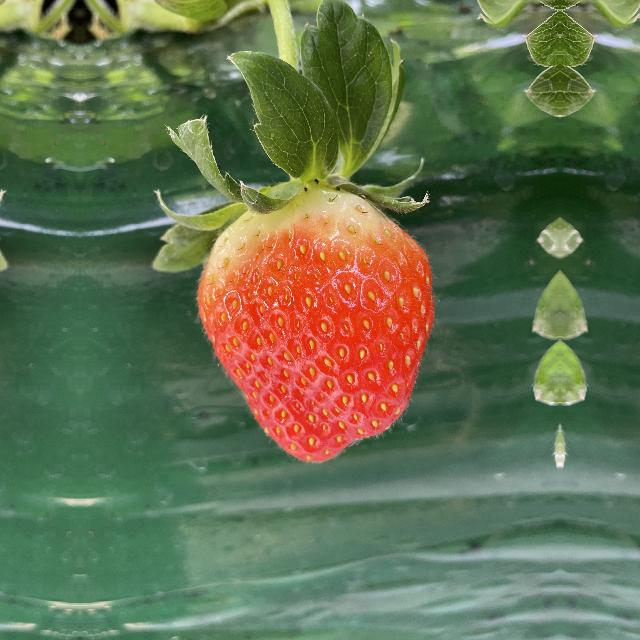Health_100: (192, 188, 436, 472)
